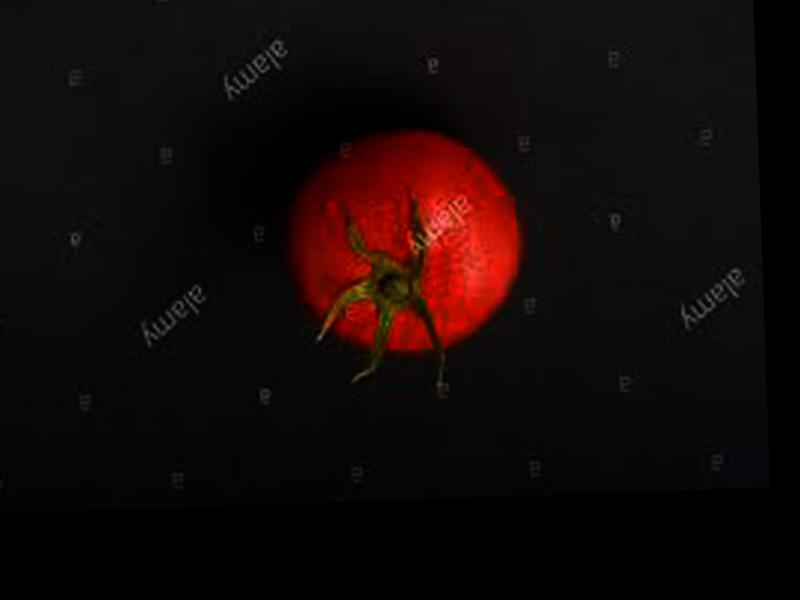Tomato: (281, 132, 526, 359)
